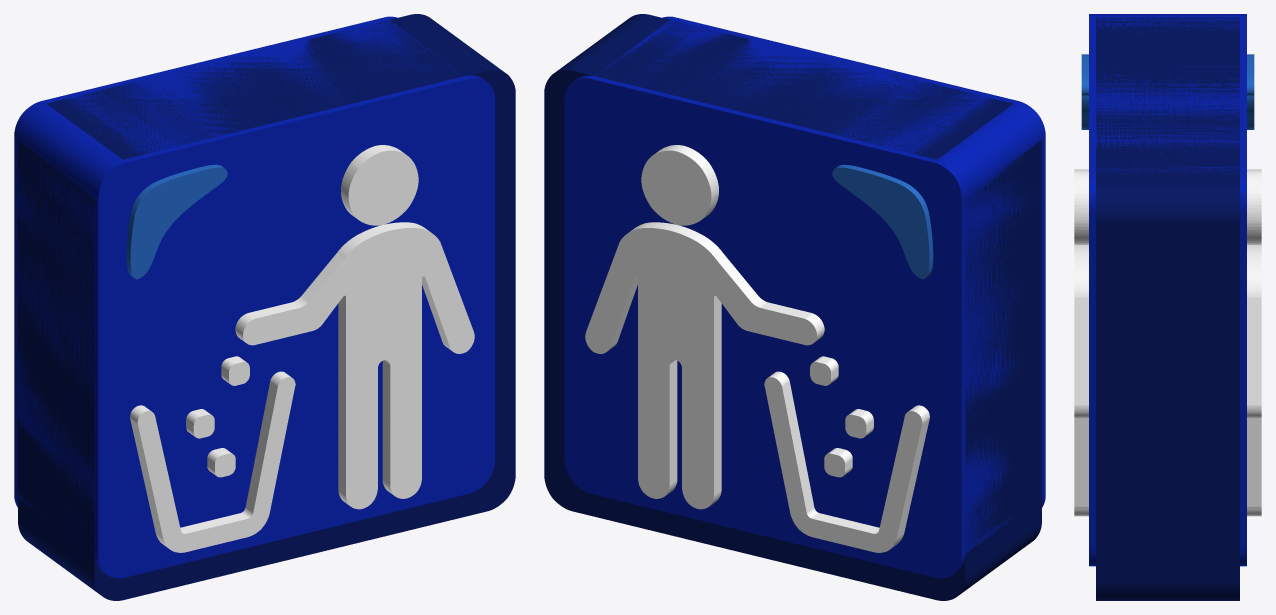
3 views of the same model, side by side, from view 1: azimuth 30°, elevation 25°; view 2: azimuth 150°, elevation 25°; view 3: azimuth 270°, elevation 25° (orthographic). The views are drawn at different scales.
Visible parts, largest first — view 1: U+1F6AE_layer01_obj00, U+1F6AE_layer00_obj00, U+1F6AE_layer03_obj04, U+1F6AE_layer03_obj01, U+1F6AE_layer02_obj00, U+1F6AE_layer03_obj02, U+1F6AE_layer03_obj05, U+1F6AE_layer03_obj03, U+1F6AE_layer03_obj00; view 2: U+1F6AE_layer01_obj00, U+1F6AE_layer00_obj00, U+1F6AE_layer03_obj04, U+1F6AE_layer03_obj01, U+1F6AE_layer02_obj00, U+1F6AE_layer03_obj02, U+1F6AE_layer03_obj05, U+1F6AE_layer03_obj03, U+1F6AE_layer03_obj00; view 3: U+1F6AE_layer00_obj00, U+1F6AE_layer01_obj00, U+1F6AE_layer03_obj04, U+1F6AE_layer03_obj02, U+1F6AE_layer02_obj00.
Boxes of the visible parts, left/top/right/bottom form: U+1F6AE_layer01_obj00: left=14, top=16, right=495, bottom=578; U+1F6AE_layer00_obj00: left=18, top=14, right=515, bottom=600; U+1F6AE_layer03_obj04: left=235, top=222, right=474, bottom=509; U+1F6AE_layer03_obj01: left=130, top=371, right=295, bottom=552; U+1F6AE_layer02_obj00: left=126, top=164, right=227, bottom=279; U+1F6AE_layer03_obj02: left=341, top=145, right=418, bottom=225; U+1F6AE_layer03_obj05: left=186, top=409, right=214, bottom=438; U+1F6AE_layer03_obj03: left=207, top=448, right=235, bottom=477; U+1F6AE_layer03_obj00: left=221, top=356, right=249, bottom=385; U+1F6AE_layer01_obj00: left=564, top=16, right=1045, bottom=578; U+1F6AE_layer00_obj00: left=544, top=14, right=1041, bottom=600; U+1F6AE_layer03_obj04: left=585, top=222, right=824, bottom=509; U+1F6AE_layer03_obj01: left=764, top=371, right=929, bottom=552; U+1F6AE_layer02_obj00: left=832, top=164, right=933, bottom=279; U+1F6AE_layer03_obj02: left=641, top=145, right=718, bottom=225; U+1F6AE_layer03_obj05: left=845, top=409, right=873, bottom=438; U+1F6AE_layer03_obj03: left=824, top=448, right=852, bottom=477; U+1F6AE_layer03_obj00: left=810, top=356, right=838, bottom=385; U+1F6AE_layer00_obj00: left=1096, top=17, right=1239, bottom=600; U+1F6AE_layer01_obj00: left=1089, top=14, right=1246, bottom=566; U+1F6AE_layer03_obj04: left=1074, top=245, right=1261, bottom=516; U+1F6AE_layer03_obj02: left=1074, top=169, right=1261, bottom=244; U+1F6AE_layer02_obj00: left=1081, top=54, right=1254, bottom=129.
Bounding box in the file's own units: 0.3175 × 0.3174 × 0.13.
